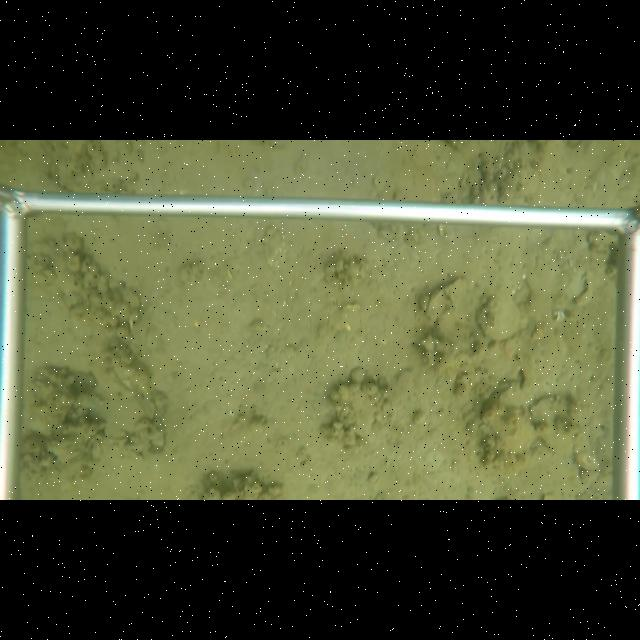Oyster-Closed: (478, 380, 538, 460), (475, 296, 528, 341), (122, 283, 149, 328)
